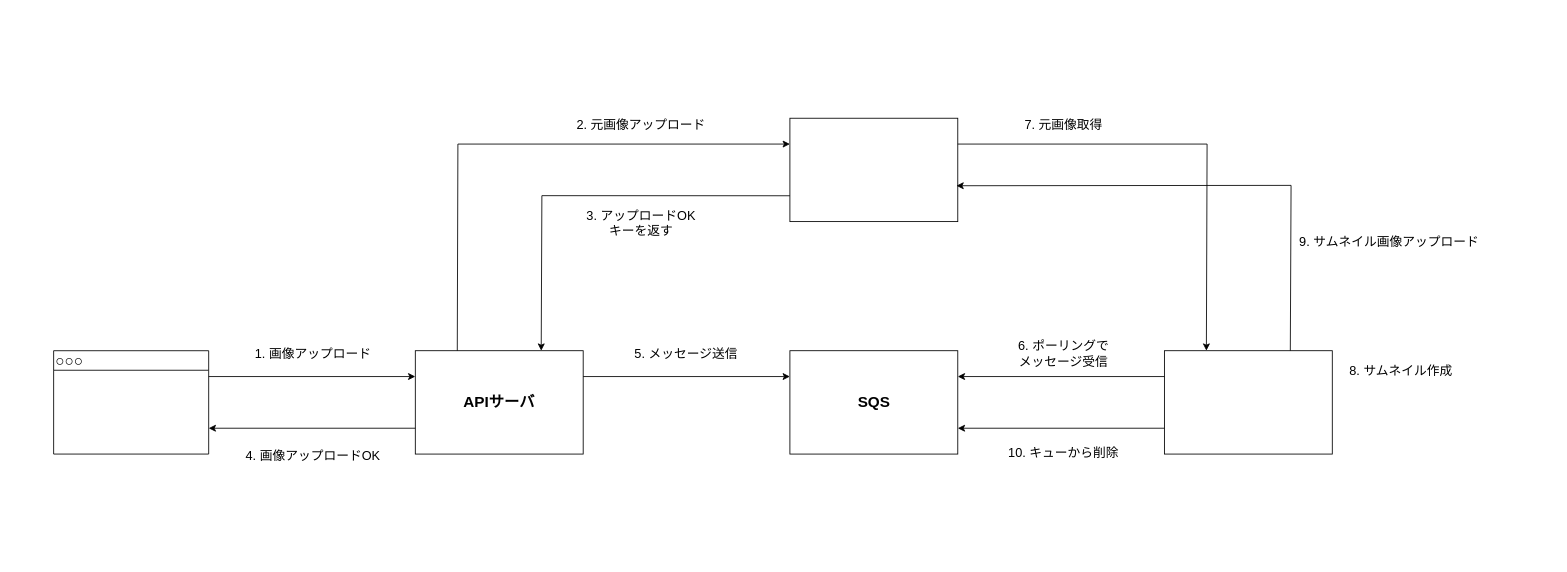
This 1567x572 diagram has some shape labels left out. The shapes that lost their labels are listed below. From the top down, each one's box as (x1, y1, x2, y2) in pixels, then its label:
(789, 117, 958, 222): S3
(1164, 350, 1332, 454): ワーカー （コンシューマ）
